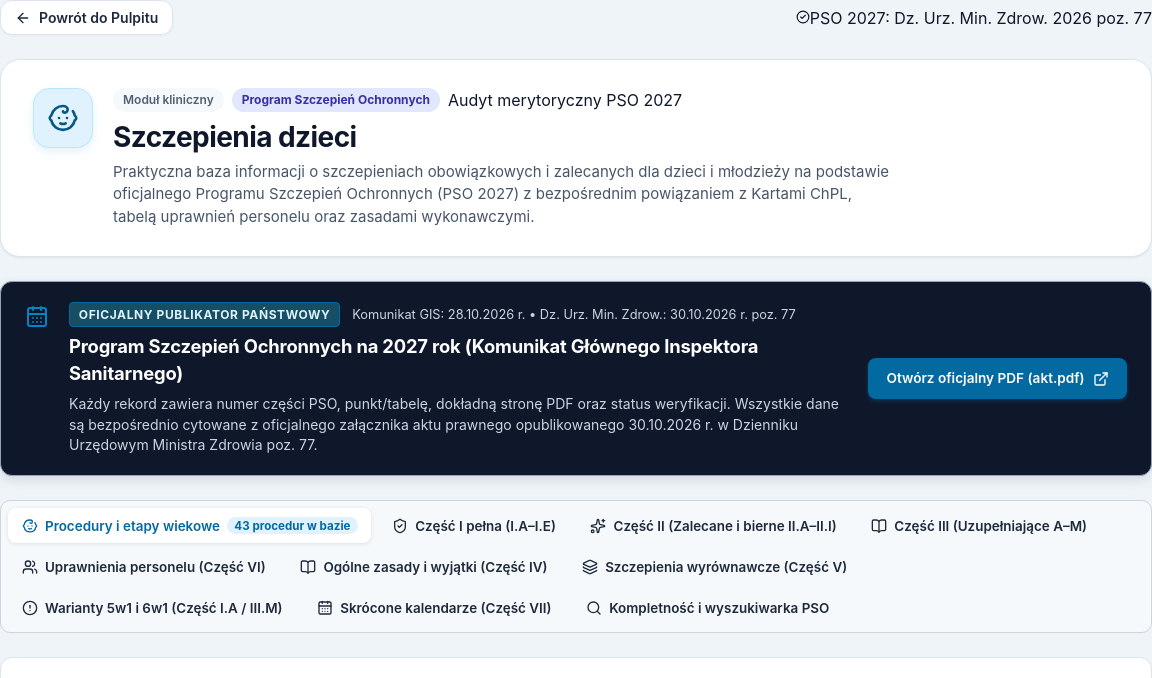
Test case: MASTER 15 — Integracja UI 7 części PSO 2027 w widokach VaxNurse › MASTER 17: Tabela VII.C w widoku renderuje notę wyjaśniającą w boksie ostrzegawczym oraz tooltip dla pustej komórki meningokoków
Step 1. Click the tab "Skrócone kalendarze (Część VII)" → (434, 608), box [303,591,565,625]
(page scrolled)
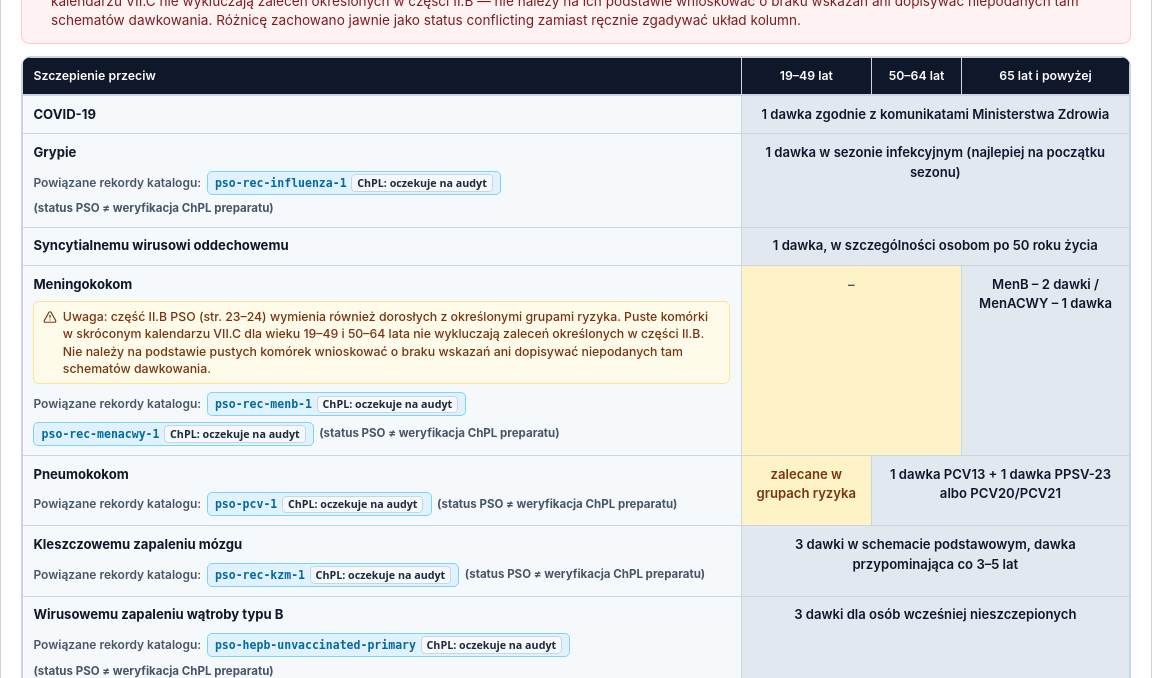
Expected: the cell titled "Pusta komórka w oficjalnym kalendarzu VII.C (str. 48). Wskazania dla grup ryzyka w wieku 19–64 lat określa Część II" is shown, [741,265,962,455]
Expected: the text "Puste komórki w skróconym kalendarzu VII.C dla wieku 19–49 i 50–64 lata nie wykluczają zaleceń określonych w części II.B" is shown, [63,309,708,376]
